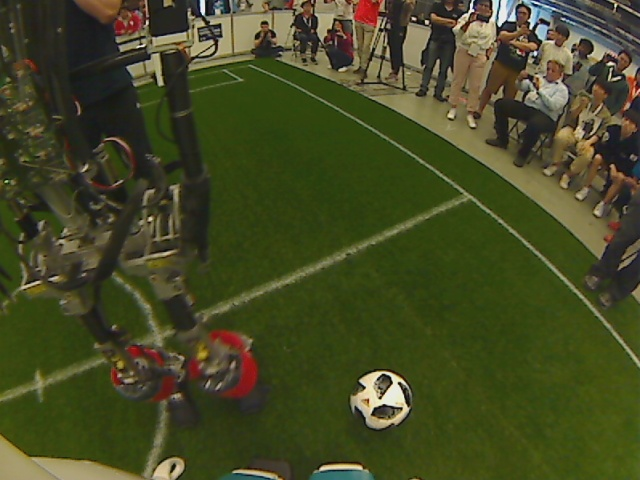ball: (348, 368, 413, 431)
